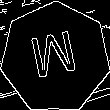M_S: (28, 28, 82, 87)
